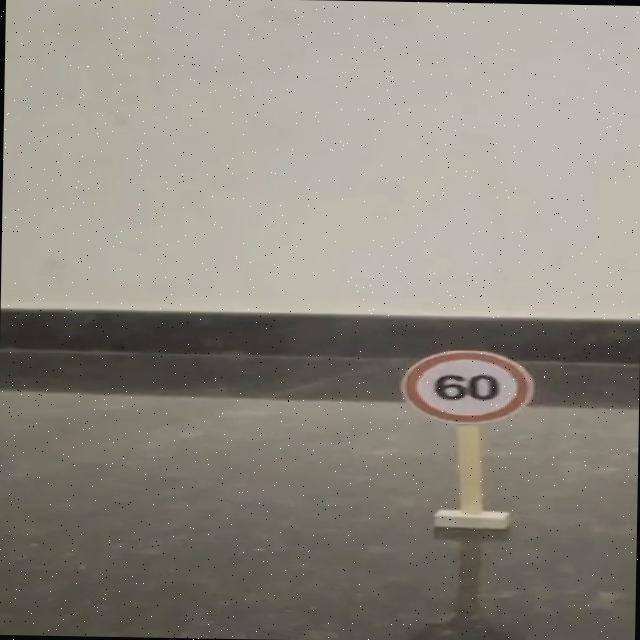Speed60: (386, 339, 546, 434)
